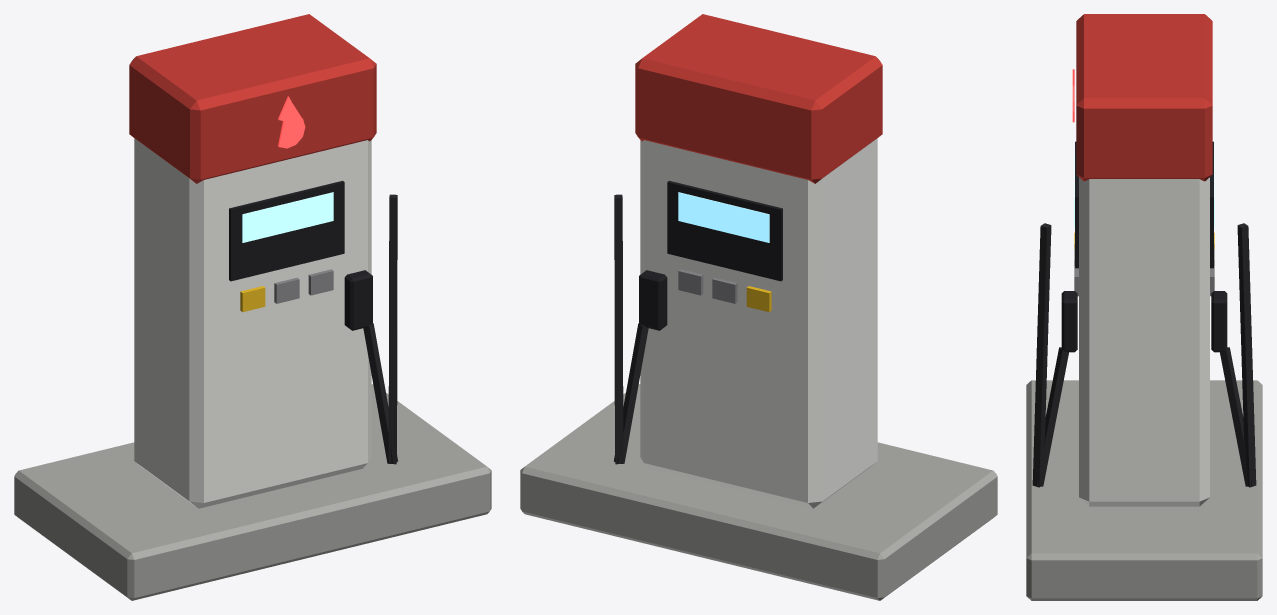
Rendered from Gas_Pump.glb.
3 renders of one model, left to right at view 1: azimuth 30°, elevation 25°; view 2: azimuth 150°, elevation 25°; view 3: azimuth 270°, elevation 25°, orthographic.
Parts seen in each view (by area): view 1: Gas_Pump; view 2: Gas_Pump; view 3: Gas_Pump.
Boxes of the visible parts, box(x1,y1,x2,y2) form: Gas_Pump: box(14, 14, 491, 600); Gas_Pump: box(520, 14, 997, 600); Gas_Pump: box(1026, 14, 1262, 600).
Bounding box in the file's own units: 1.6 × 1.92 × 0.9.
1 material, 1 textured.
